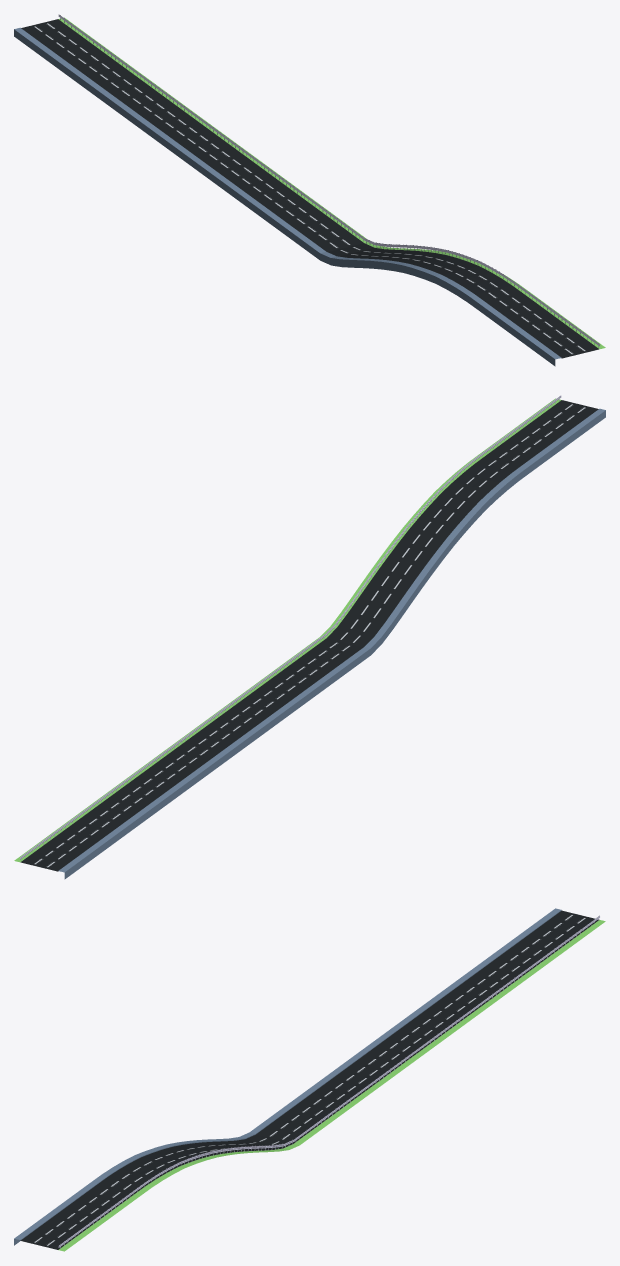
The model's file is Road_ThreeLineUp.fbx.
The picture shows the model from 3 angles, top to bottom: view 1: azimuth 30°, elevation 25°; view 2: azimuth 150°, elevation 25°; view 3: azimuth 330°, elevation 25°; orthographic projection.
Parts seen in each view (by area): view 1: Elevation; view 2: Elevation; view 3: Elevation.
Boxes of the visible parts, x1=… form: Elevation: x1=14, y1=14, x2=605, y2=366; Elevation: x1=14, y1=395, x2=605, y2=879; Elevation: x1=14, y1=908, x2=605, y2=1251.
Bounding box in the file's own units: 1600 × 29707 × 2353.
1 material, 1 textured.
